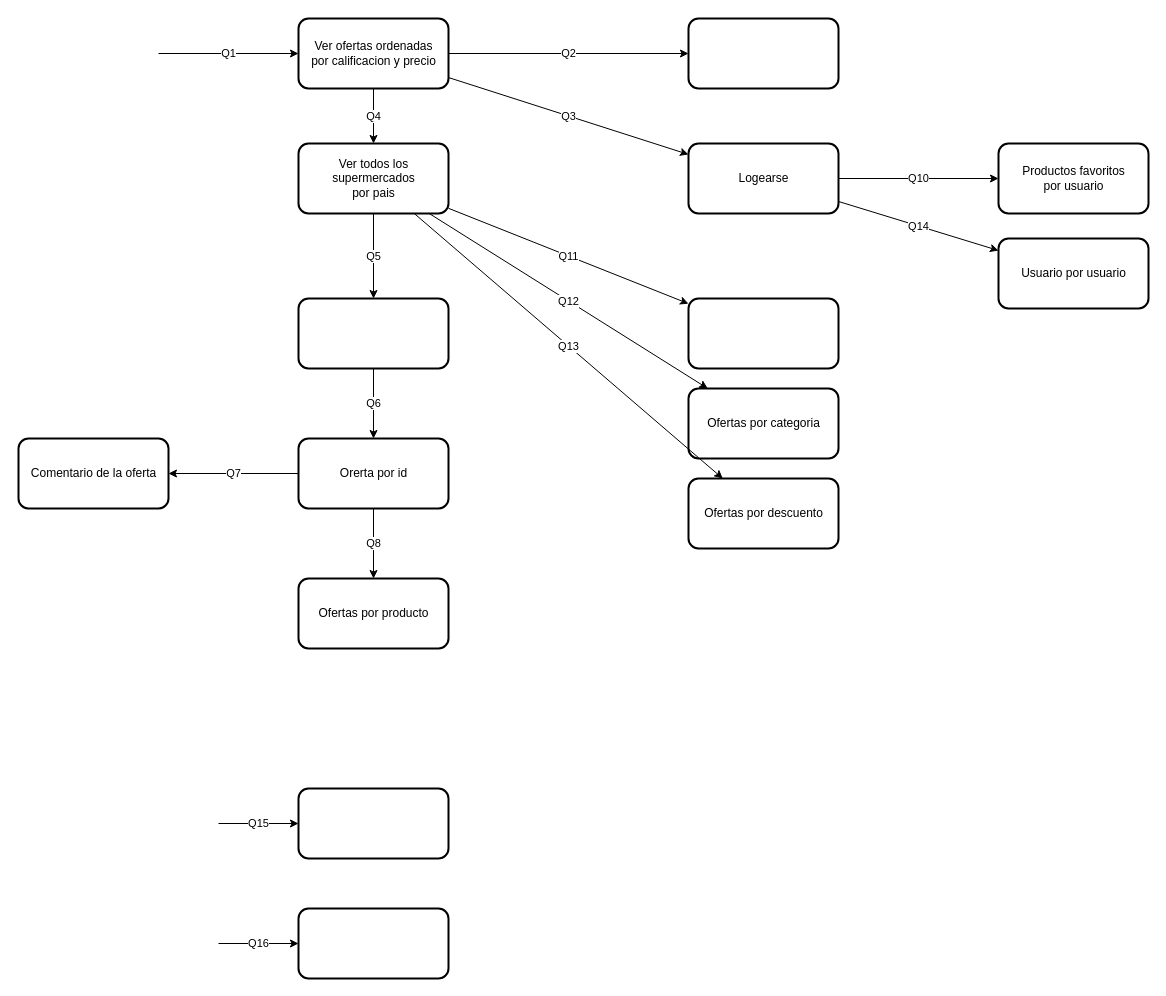
Image size: 1166x996. Some labels were removed from this diagram. Here are the shapes that lost their labels. From the top down, the centre of each, then its label:
(x=763, y=53): Buscar sucursales
(x=373, y=333): Ofertas activas por supermercado
(x=763, y=333): Ofertas por precio
(x=373, y=823): Ofertas por usuario
(x=373, y=943): Ofertas por usuario y por pais
